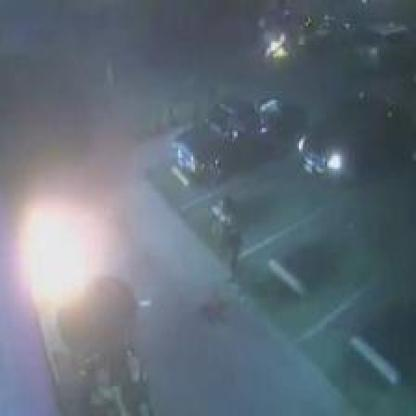fire: (11, 193, 106, 312), (262, 34, 291, 60)
